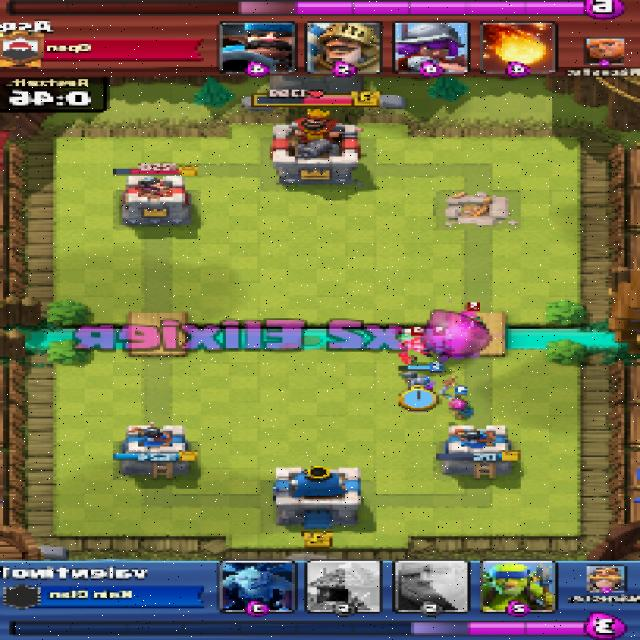Enemy-Archer: (461, 312, 481, 327)
Enemy-Minion: (401, 338, 434, 356)
Player-Archer: (448, 399, 474, 421)
Player-Musketeer: (400, 372, 437, 404)
